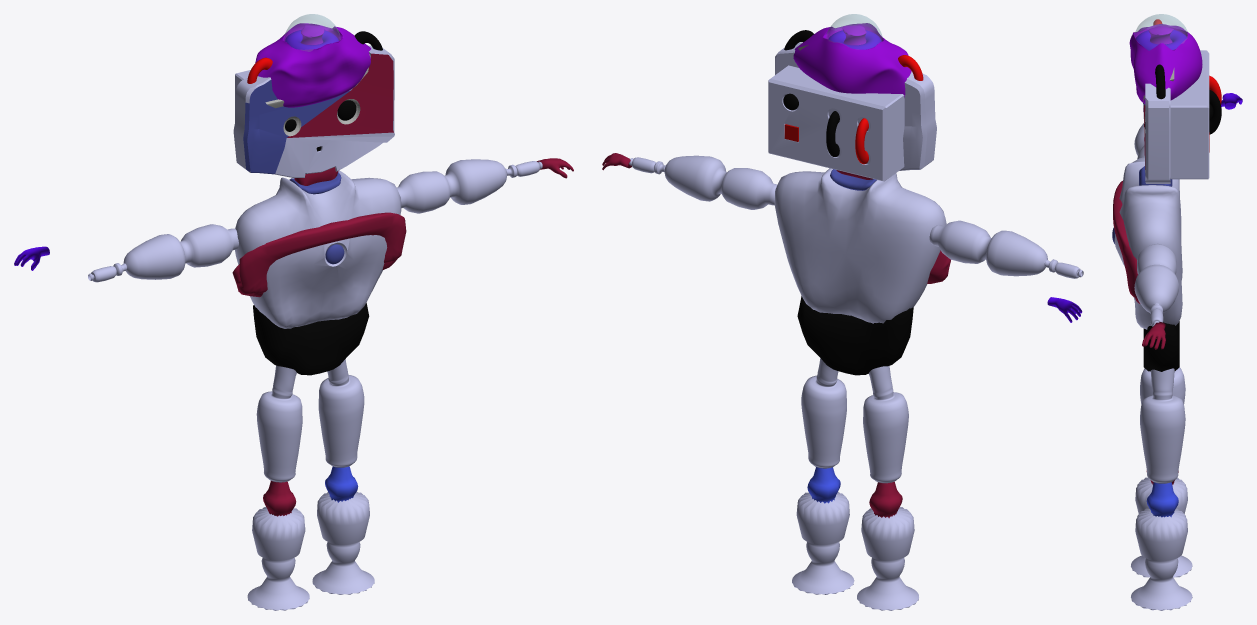
File: Roby.fbx
The picture shows the model from 3 angles, left to right: view 1: azimuth 30°, elevation 25°; view 2: azimuth 150°, elevation 25°; view 3: azimuth 270°, elevation 25°; orthographic projection.
Parts seen in each view (by area): view 1: pCube22, pCube5, pCylinder10, pCube8, pCube23, pCube21, polySurface3, polySurface6, polySurface1, polySurface4, pSphere7, polySurface5 (+2 smaller); view 2: pCube22, pCube17, pCylinder10, pCube8, pCube23, polySurface3, polySurface6, polySurface1, polySurface4, pCube5, pSphere7, polySurface5 (+2 smaller); view 3: pCube22, polySurface6, polySurface4, pCube17, pCube8, pCylinder10, pCube5, pSphere7, polySurface3, pCube23, pCube21, polySurface5 (+5 smaller).
Boxes of the visible parts, x1,y1,x2,y2 form: pCube22: (235,170,401,328); pCube5: (233,45,394,177); pCylinder10: (88,159,542,282); pCube8: (255,23,370,107); pCube23: (253,303,369,375); pCube21: (232,212,406,297); polySurface3: (247,507,309,610); polySurface6: (312,491,374,594); polySurface1: (256,365,302,482); polySurface4: (318,359,364,467); pSphere7: (284,14,340,51); polySurface5: (325,466,358,502); pCube22: (774,168,946,323); pCube17: (768,65,904,181); pCylinder10: (629,155,1083,278); pCube8: (793,23,911,97); pCube23: (797,296,913,375); polySurface3: (857,507,918,610); polySurface6: (792,492,854,594); polySurface1: (863,366,908,483); polySurface4: (801,358,846,468); pCube5: (775,42,936,170); pSphere7: (826,14,882,49); polySurface5: (807,467,840,503); pCube22: (1114,157,1182,329); polySurface6: (1130,508,1192,610); polySurface4: (1140,368,1185,483); pCube17: (1170,50,1209,179); pCube8: (1129,24,1202,103); pCylinder10: (1134,123,1178,326); pCube5: (1143,83,1170,183); pSphere7: (1134,14,1187,50); polySurface3: (1130,477,1192,577); pCube23: (1143,321,1179,371); pCube21: (1113,181,1140,303); polySurface5: (1146,482,1178,517).
Size of the model in its own units: 10.32 by 10.97 by 2.29.
